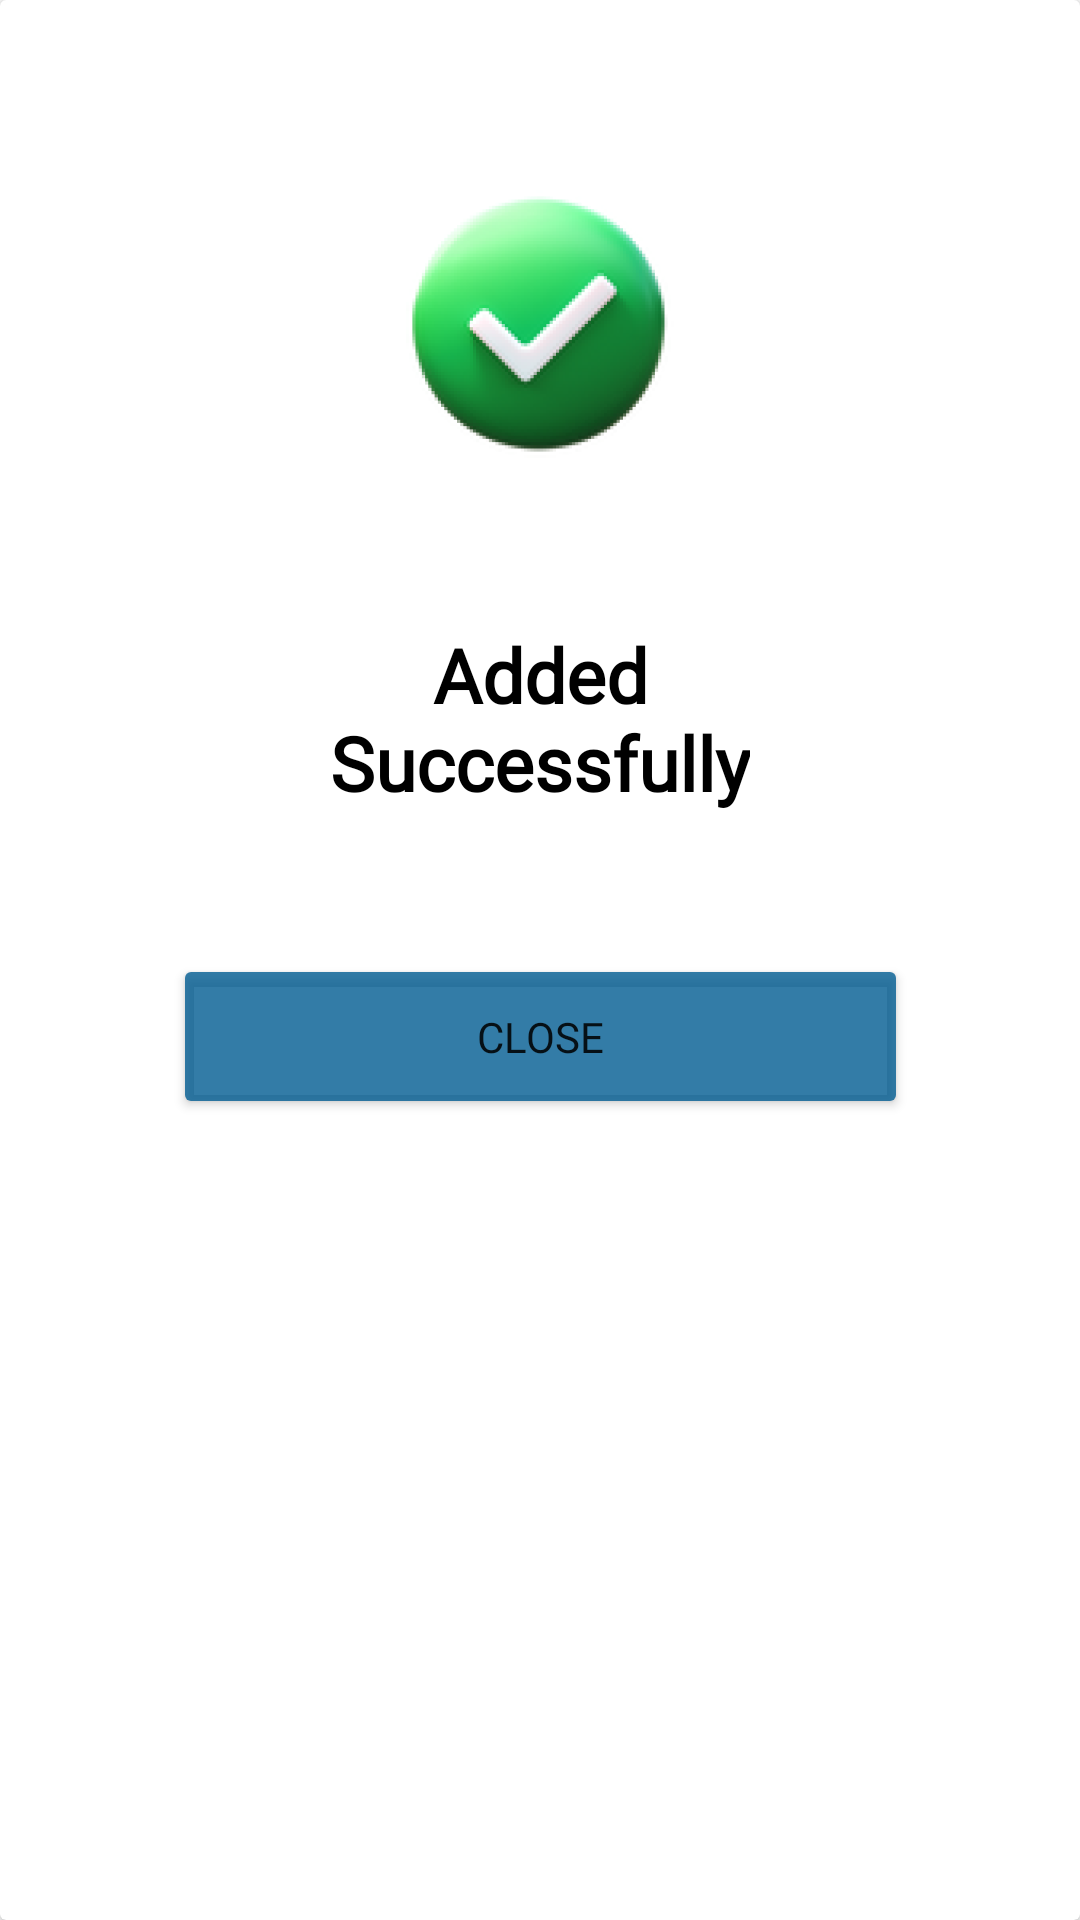

Screen size 1080px×1920px. Icon name, then its box in pixels as (x1, y1, x2, y2):
checklis: (412, 199, 665, 452)
